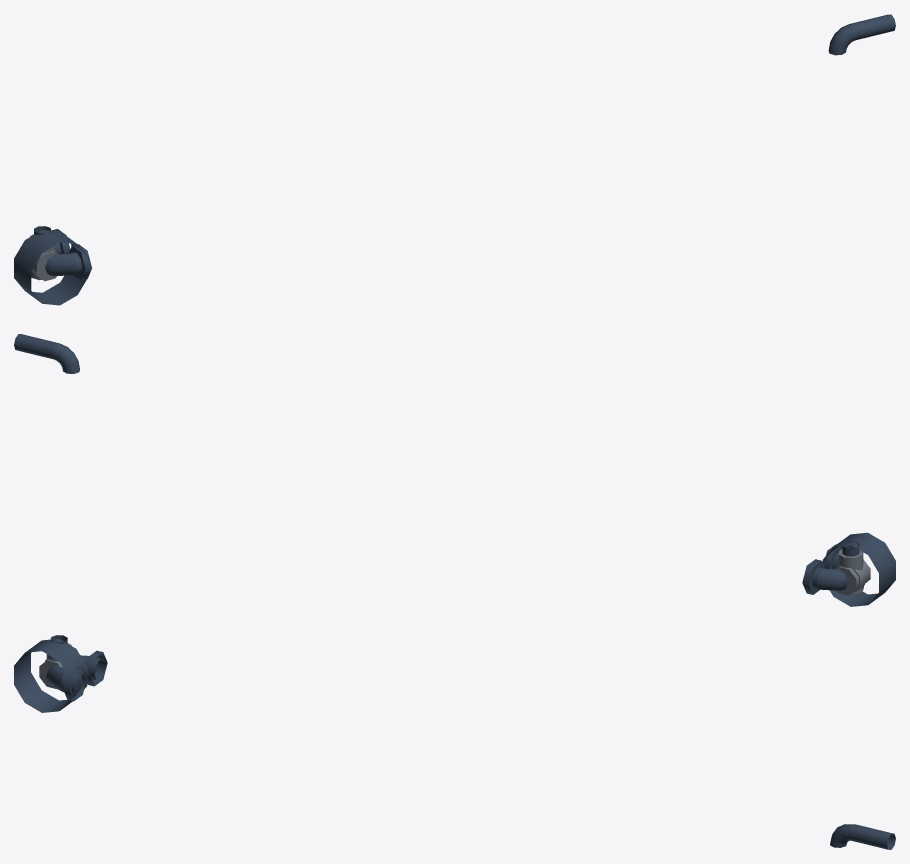
Rendered from RS_PipeRun.glb.
The picture shows the model from 3 angles, top to bottom: view 1: azimuth 30°, elevation 25°; view 2: azimuth 150°, elevation 25°; view 3: azimuth 330°, elevation 25°; orthographic projection.
Visible parts, largest first — view 1: RS_PipeRun__main, RS_PipeRun__riser_head, RS_PipeRun__elbow_end; view 2: RS_PipeRun__main, RS_PipeRun__riser_head, RS_PipeRun__elbow_start, RS_PipeRun__riser_tee; view 3: RS_PipeRun__main, RS_PipeRun__riser_head, RS_PipeRun__elbow_end, RS_PipeRun__elbow_start.
Boxes of the visible parts, x1=… form: RS_PipeRun__main: x1=14, y1=230, x2=88, y2=305; RS_PipeRun__riser_head: x1=828, y1=14, x2=895, y2=55; RS_PipeRun__elbow_end: x1=45, y1=244, x2=91, y2=280; RS_PipeRun__main: x1=822, y1=532, x2=895, y2=606; RS_PipeRun__riser_head: x1=14, y1=334, x2=79, y2=373; RS_PipeRun__elbow_start: x1=802, y1=559, x2=848, y2=594; RS_PipeRun__riser_tee: x1=836, y1=549, x2=870, y2=595; RS_PipeRun__main: x1=14, y1=638, x2=87, y2=712; RS_PipeRun__riser_head: x1=830, y1=824, x2=895, y2=849; RS_PipeRun__elbow_end: x1=46, y1=665, x2=86, y2=701; RS_PipeRun__elbow_start: x1=80, y1=650, x2=107, y2=686.
Bounding box in the file's own units: 29.15 × 2.26 × 2.24.
